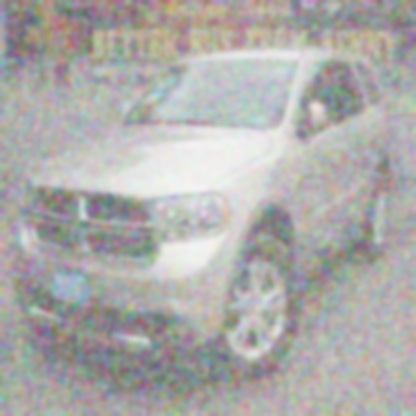Vehicle: (11, 46, 395, 384)
